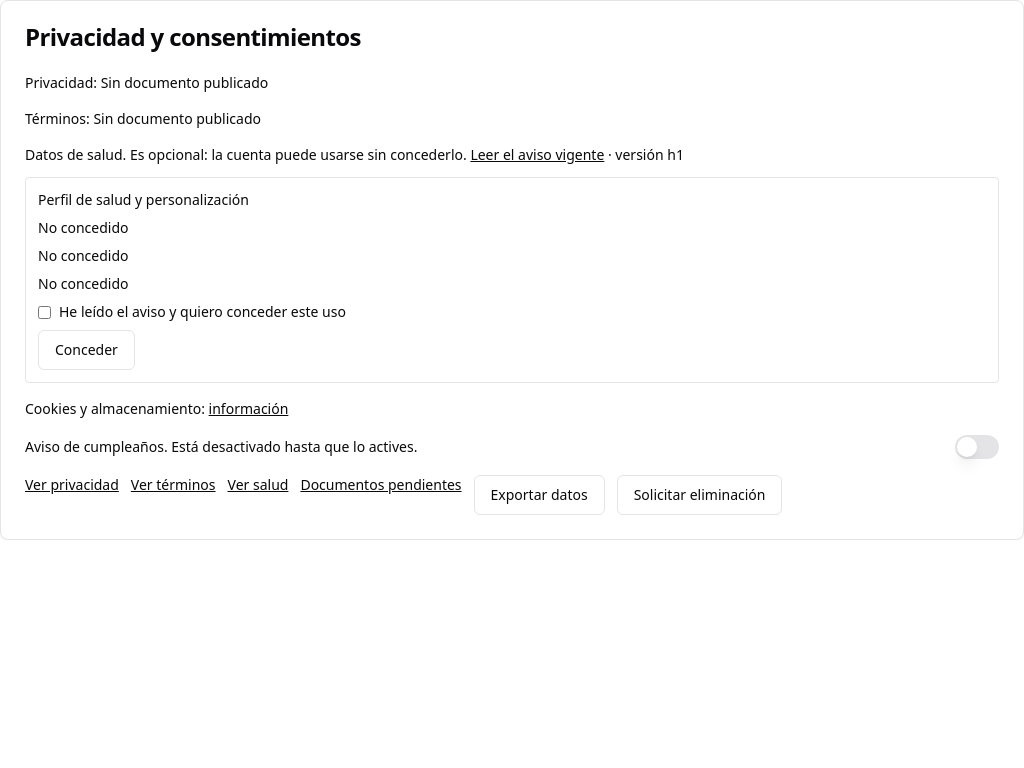
Scenario: does not preselect health consent and does not grant without the checkbox
Expected: the checkbox labelled "He leído el aviso y quiero conceder este uso" is not checked, [38,306,51,318]
Click the button "Conceder" at {"x": 86, "y": 350}, box [38,330,135,370]
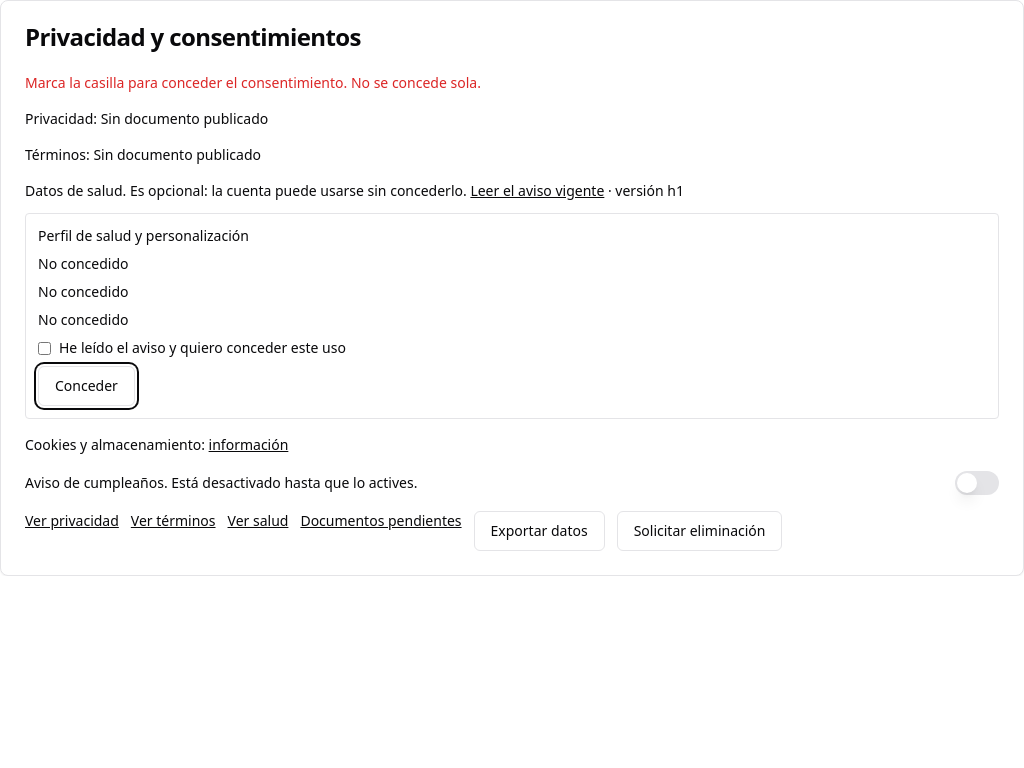
Expected: the text "No se concede sola" is shown, [25,73,481,92]
